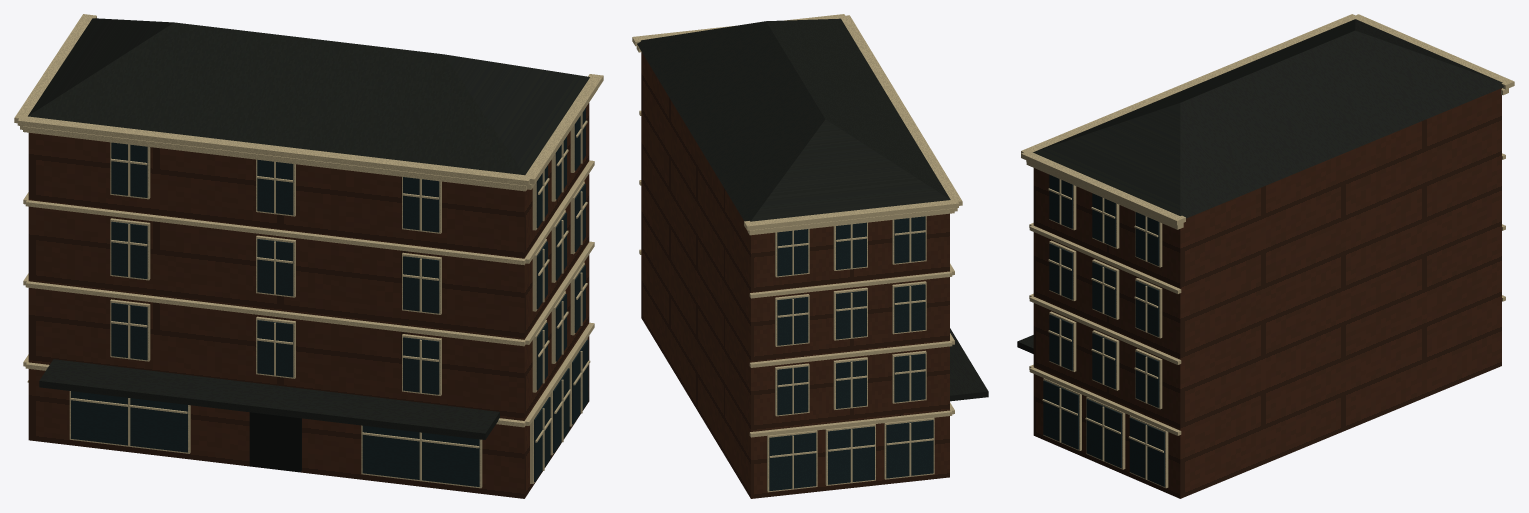
The picture shows the model from 3 angles, left to right: view 1: azimuth 30°, elevation 25°; view 2: azimuth 150°, elevation 25°; view 3: azimuth 270°, elevation 25°; orthographic projection. The views are drawn at different scales.
Visible parts, largest first — view 1: oppert-woonhuizen-0, oppert-woonhuizen-1, oppert-woonhuizen-2, oppert-woonhuizen-3, oppert-woonhuizen-4; view 2: oppert-woonhuizen-0, oppert-woonhuizen-1, oppert-woonhuizen-3, oppert-woonhuizen-2; view 3: oppert-woonhuizen-0, oppert-woonhuizen-1, oppert-woonhuizen-2, oppert-woonhuizen-3.
Boxes of the visible parts, left/top/right/bottom form: oppert-woonhuizen-0: left=28, top=103, right=589, bottom=498; oppert-woonhuizen-1: left=28, top=18, right=589, bottom=439; oppert-woonhuizen-2: left=14, top=14, right=603, bottom=488; oppert-woonhuizen-3: left=71, top=108, right=588, bottom=486; oppert-woonhuizen-4: left=249, top=412, right=301, bottom=472; oppert-woonhuizen-0: left=641, top=52, right=949, bottom=498; oppert-woonhuizen-1: left=637, top=18, right=988, bottom=401; oppert-woonhuizen-3: left=769, top=216, right=933, bottom=490; oppert-woonhuizen-2: left=632, top=14, right=962, bottom=492; oppert-woonhuizen-0: left=1033, top=88, right=1501, bottom=498; oppert-woonhuizen-1: left=1017, top=19, right=1503, bottom=353; oppert-woonhuizen-2: left=1021, top=14, right=1514, bottom=488; oppert-woonhuizen-3: left=1043, top=174, right=1164, bottom=486.
Bounding box in the file's own units: 23.6 × 17.6 × 23.73.
5 materials, 5 textured.
